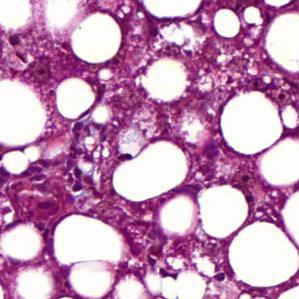steatosis: (227, 222, 299, 291), (220, 91, 285, 158), (70, 12, 124, 64), (198, 187, 249, 236), (52, 78, 93, 119)
